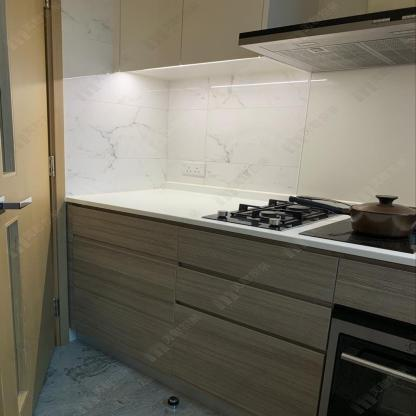Exhaust Hood: (237, 5, 415, 75)
Stove: (185, 193, 358, 234)
